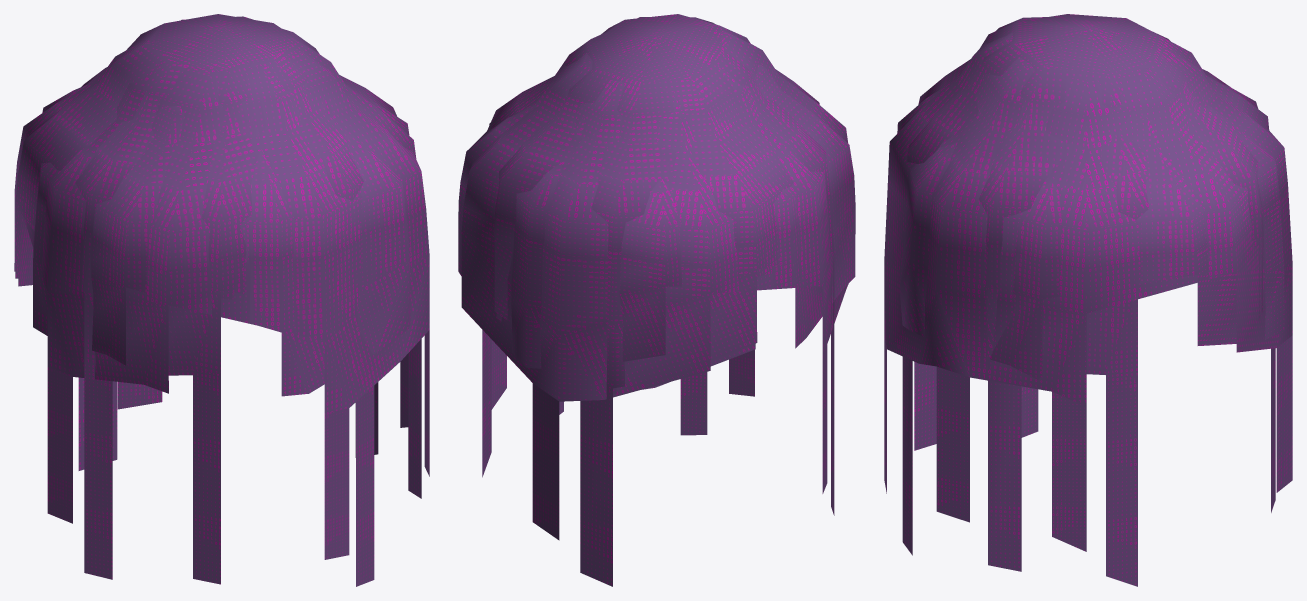
File: Tree_Cupule_01_Art.fbx
3 views of the same model, side by side, from view 1: azimuth 30°, elevation 25°; view 2: azimuth 150°, elevation 25°; view 3: azimuth 270°, elevation 25° (orthographic). The views are drawn at different scales.
Parts seen in each view (by area): view 1: Tree_cupule_01, tree_leaves_01_4, tree_leaves_01_1, tree_leaves_01_2, tree_leaves_01_3; view 2: tree_leaves_01_4, tree_leaves_01_2, tree_leaves_01_1, Tree_cupule_01, tree_leaves_01_3; view 3: tree_leaves_01_4, Tree_cupule_01, tree_leaves_01_2, tree_leaves_01_1.
Boxes of the visible parts, x1,y1,x2,y2 form: Tree_cupule_01: [14, 33, 429, 412]; tree_leaves_01_4: [15, 14, 421, 586]; tree_leaves_01_1: [33, 84, 410, 396]; tree_leaves_01_2: [14, 16, 429, 559]; tree_leaves_01_3: [18, 206, 233, 375]; tree_leaves_01_4: [482, 14, 834, 586]; tree_leaves_01_2: [461, 32, 827, 540]; tree_leaves_01_1: [458, 64, 855, 368]; Tree_cupule_01: [493, 17, 848, 400]; tree_leaves_01_3: [496, 266, 831, 393]; tree_leaves_01_4: [902, 14, 1275, 586]; Tree_cupule_01: [884, 17, 1282, 406]; tree_leaves_01_2: [884, 31, 1292, 551]; tree_leaves_01_1: [897, 80, 1284, 379].
Bounding box in the file's own units: 2395 × 3261 × 2433.
Materials: 1 (1 with a texture image).
